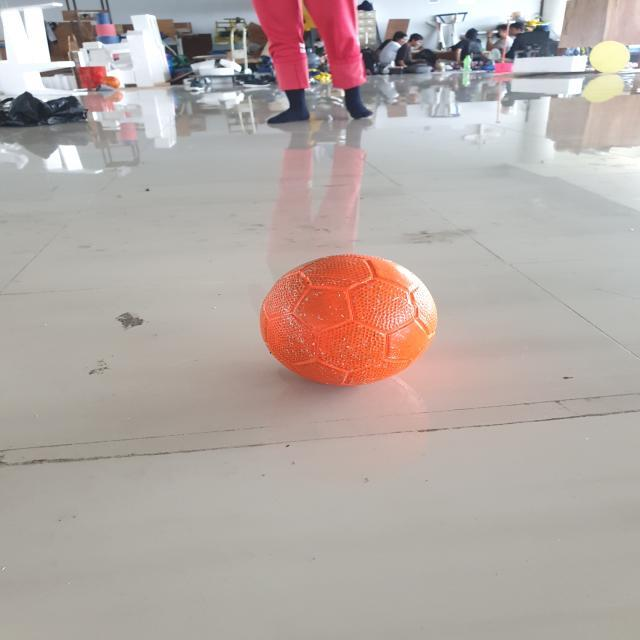bola: (256, 251, 442, 396)
